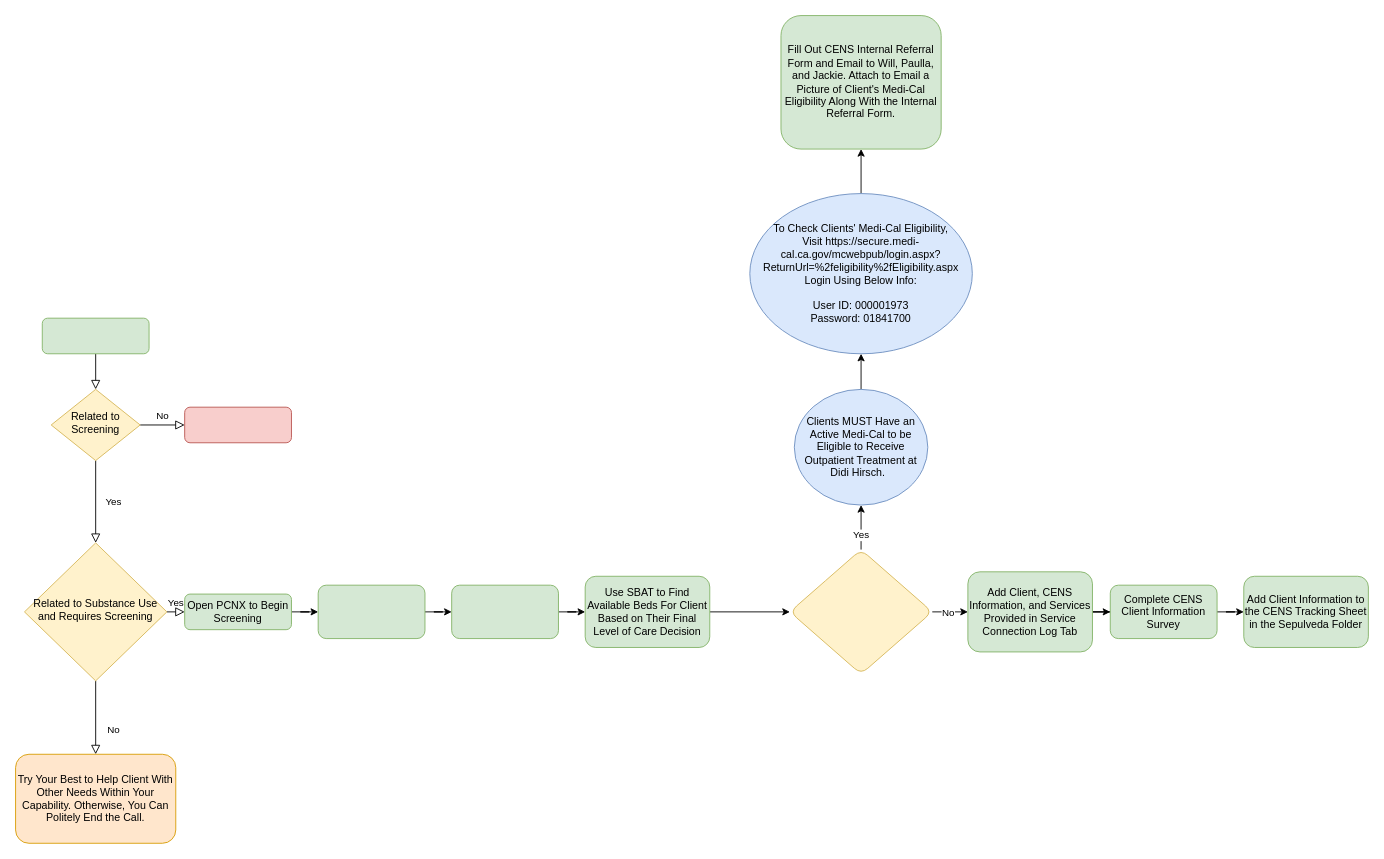
The diagram is 1384 pixels wide and 859 high, and some of its shapes have lost their labels. The shapes that lost their labels are listed below. From the top down, each one's centre as x and y in pixels, then its label:
pixel 95 335: CENS Receives Phone Call
pixel 237 424: No Screening
pixel 371 611: Enter Client Info Into the Admission Tab
pixel 504 611: Complete Assessment on the ASAM Assessment Tab
pixel 860 611: Does Client Qualify for Referral to Didi Hirsch Outpatient?
